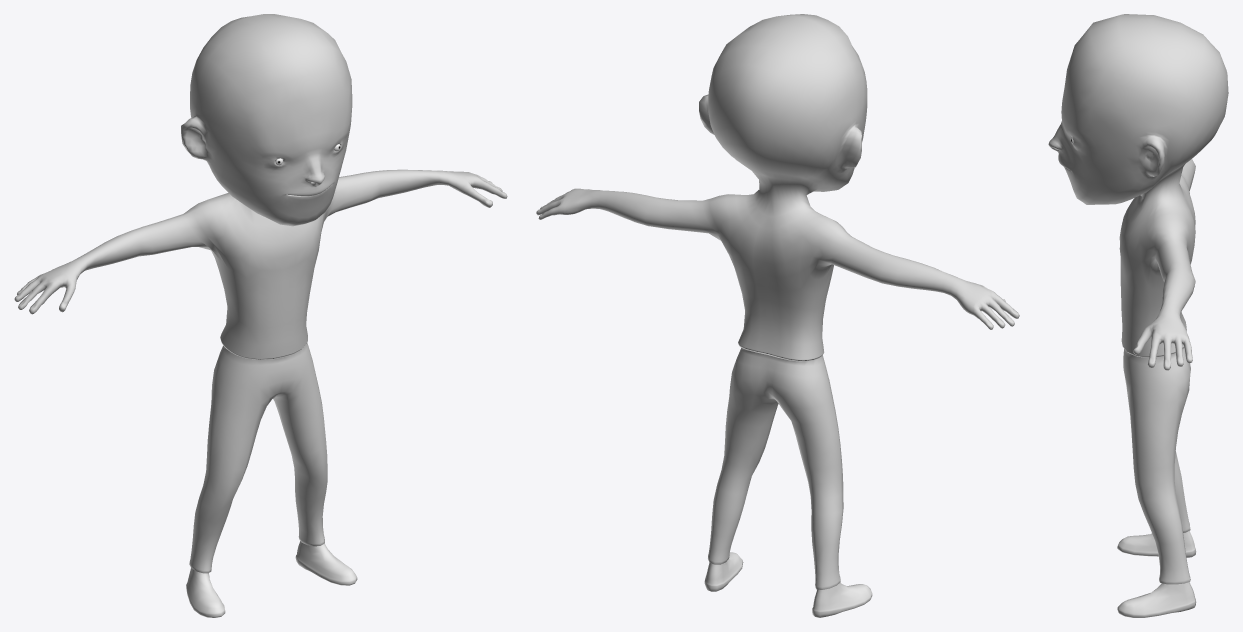
File: FBX_PNJ_01_MALE.fbx
3 renders of one model, left to right at view 1: azimuth 30°, elevation 25°; view 2: azimuth 150°, elevation 25°; view 3: azimuth 270°, elevation 25°, orthographic. The views are drawn at different scales.
Parts seen in each view (by area): view 1: PNJ_01_SD1; view 2: PNJ_01_SD1; view 3: PNJ_01_SD1.
Part boxes in pixels (left/top/right/bottom): PNJ_01_SD1: left=14, top=14, right=507, bottom=617; PNJ_01_SD1: left=536, top=14, right=1019, bottom=617; PNJ_01_SD1: left=1048, top=14, right=1228, bottom=617.
Size of the model in its own units: 91.15 by 103 by 30.07.
